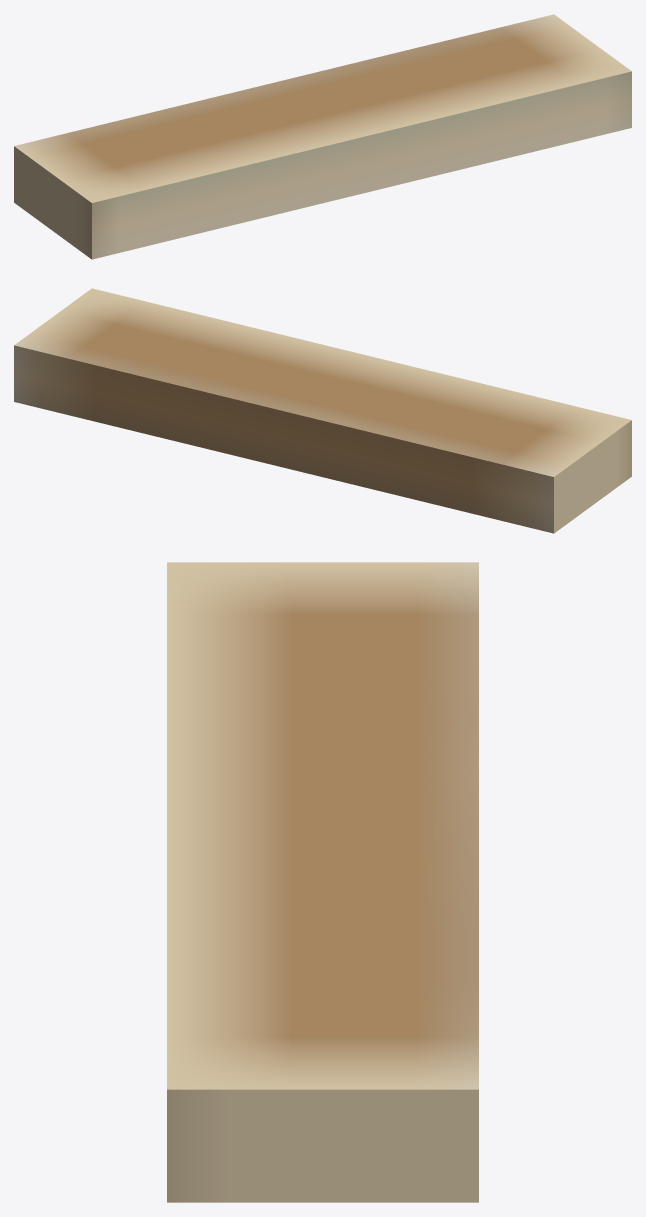
Rendered from ShelfCream_01.fbx.
3 renders of one model, top to bottom at view 1: azimuth 30°, elevation 25°; view 2: azimuth 150°, elevation 25°; view 3: azimuth 270°, elevation 25°, orthographic. The views are drawn at different scales.
Parts seen in each view (by area): view 1: ShelfCream_01; view 2: ShelfCream_01; view 3: ShelfCream_01.
Part boxes in pixels (left/top/right/bottom): ShelfCream_01: left=14, top=14, right=631, bottom=259; ShelfCream_01: left=14, top=288, right=631, bottom=533; ShelfCream_01: left=167, top=562, right=478, bottom=1202.
Size of the model in its own units: 100 by 25 by 10.
Materials: 1 (1 with a texture image).
